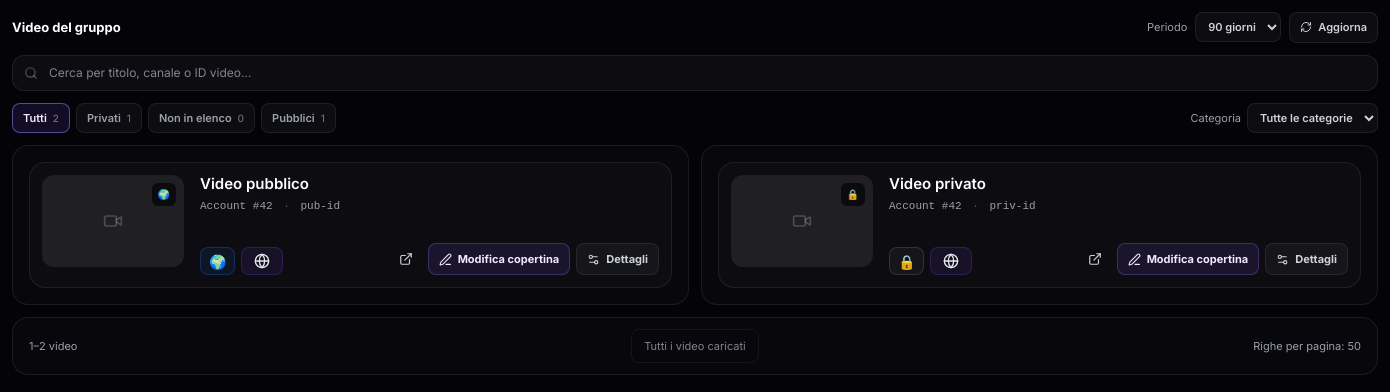
Test: GroupYouTubeVideos › filters the grid by privacy status client-side
Expected: the text "Video pubblico" is shown, [200, 174, 309, 193]
Expected: the text "Video privato" is shown, [889, 174, 986, 193]
Click the button with test id "group-videos-filter-private": click(109, 118) [76, 102, 142, 133]
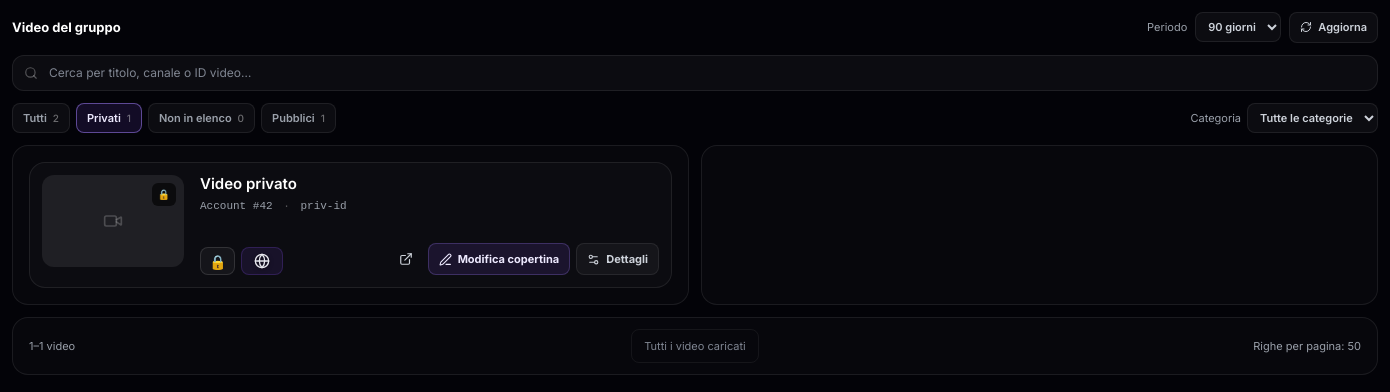
Expected: the text "Video privato" is shown, [200, 174, 297, 193]
Result: the button "Video pubblico" is gone
Click the button with test id "group-videos-filter-public": click(298, 118) [261, 102, 336, 133]
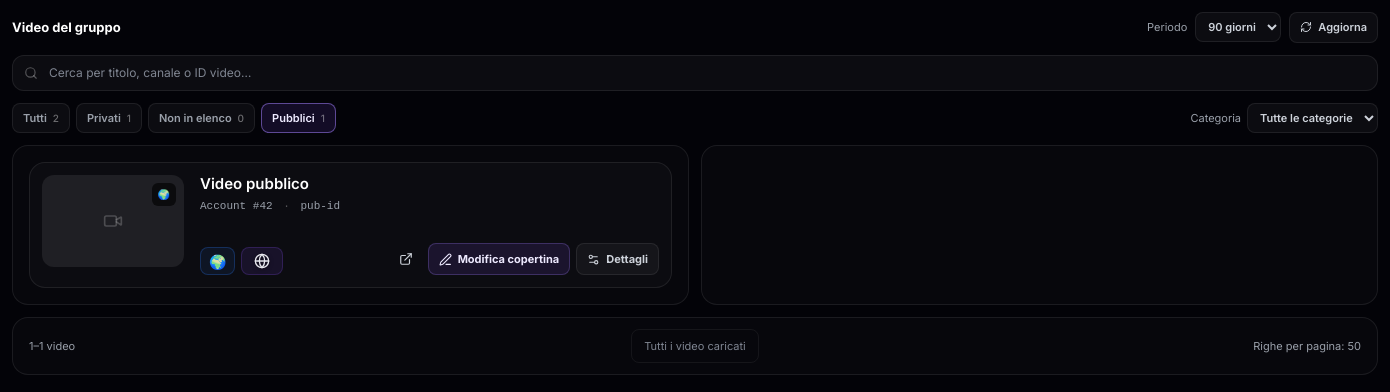
Result: the text "Video pubblico" is shown at [200, 174, 309, 193]
Result: the button "Video privato" is gone
